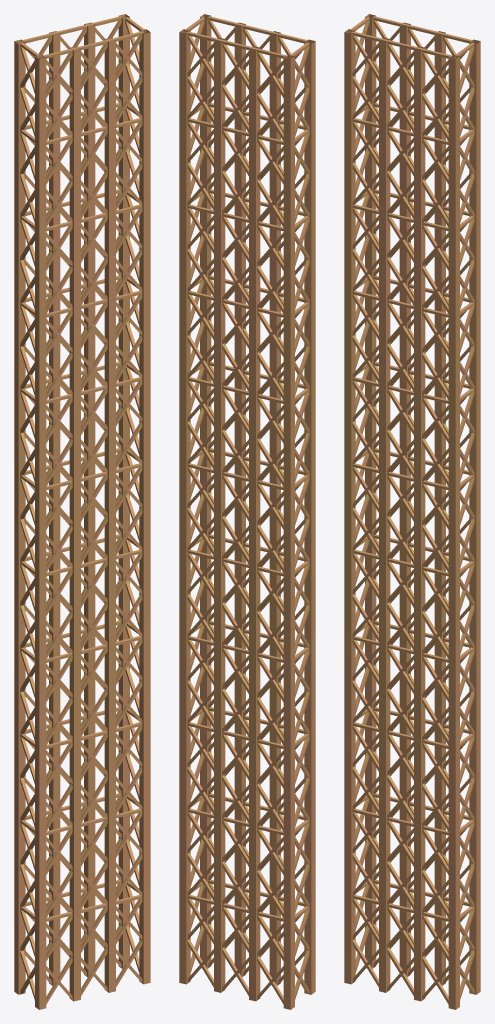
File: climbing tower.fbx
3 views of the same model, side by side, from view 1: azimuth 30°, elevation 25°; view 2: azimuth 150°, elevation 25°; view 3: azimuth 330°, elevation 25° (orthographic).
Visible parts, largest first — view 1: climbing tower, Cube.003, Cube.004, Cube.005, Cube.011, Cube.002, Cube.010, Cube.006, Cube.009, Cube.007, Cube.008, Cube.012 (+1 smaller); view 2: climbing tower, Cube.006, Cube.008, Cube.009, Cube.011, Cube.007, Cube.010, Cube.003, Cube.005, Cube.002, Cube.004, Cube.012 (+1 smaller); view 3: climbing tower, Cube.003, Cube.005, Cube.004, Cube.010, Cube.002, Cube.011, Cube.006, Cube.008, Cube.007, Cube.009, Cube.013 (+1 smaller).
Part boxes in pixels (x1,y1,x2,y2): climbing tower: (14, 14, 150, 1009); Cube.003: (81, 43, 107, 995); Cube.004: (41, 52, 72, 1004); Cube.005: (116, 35, 142, 987); Cube.011: (20, 45, 40, 999); Cube.002: (42, 31, 143, 921); Cube.010: (125, 21, 145, 972); Cube.006: (58, 28, 86, 976); Cube.009: (95, 20, 121, 967); Cube.007: (21, 16, 122, 906); Cube.008: (21, 37, 51, 984); Cube.012: (20, 42, 39, 919); climbing tower: (179, 14, 315, 1009); Cube.006: (222, 43, 248, 995); Cube.008: (257, 52, 288, 1004); Cube.009: (187, 35, 213, 987); Cube.011: (289, 45, 309, 999); Cube.007: (186, 31, 287, 921); Cube.010: (184, 21, 204, 972); Cube.003: (243, 28, 271, 976); Cube.005: (208, 20, 234, 967); Cube.002: (207, 16, 308, 906); Cube.004: (278, 37, 308, 984); Cube.012: (290, 42, 309, 919); climbing tower: (344, 14, 480, 1009); Cube.003: (387, 43, 413, 995); Cube.005: (422, 52, 453, 1004); Cube.004: (352, 35, 378, 987); Cube.010: (454, 45, 474, 999); Cube.002: (351, 31, 452, 921); Cube.011: (349, 21, 369, 972); Cube.006: (408, 27, 434, 976); Cube.008: (373, 19, 399, 967); Cube.007: (372, 16, 473, 906); Cube.009: (443, 37, 473, 984); Cube.013: (455, 42, 474, 919).
Bounding box in the file's own units: 180 × 1472 × 69.8.
